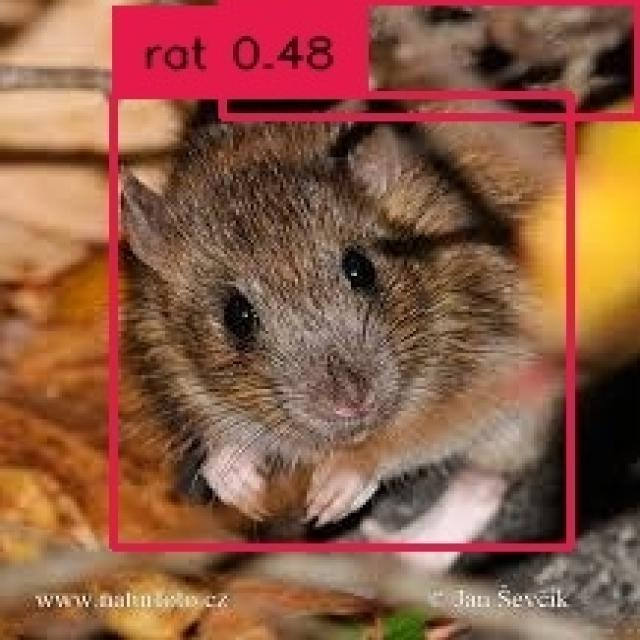rat: (109, 91, 566, 543), (218, 0, 634, 113)
